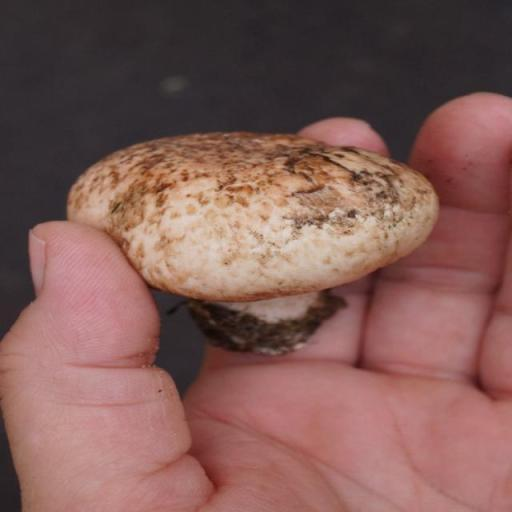mushroom: (66, 139, 445, 363)
